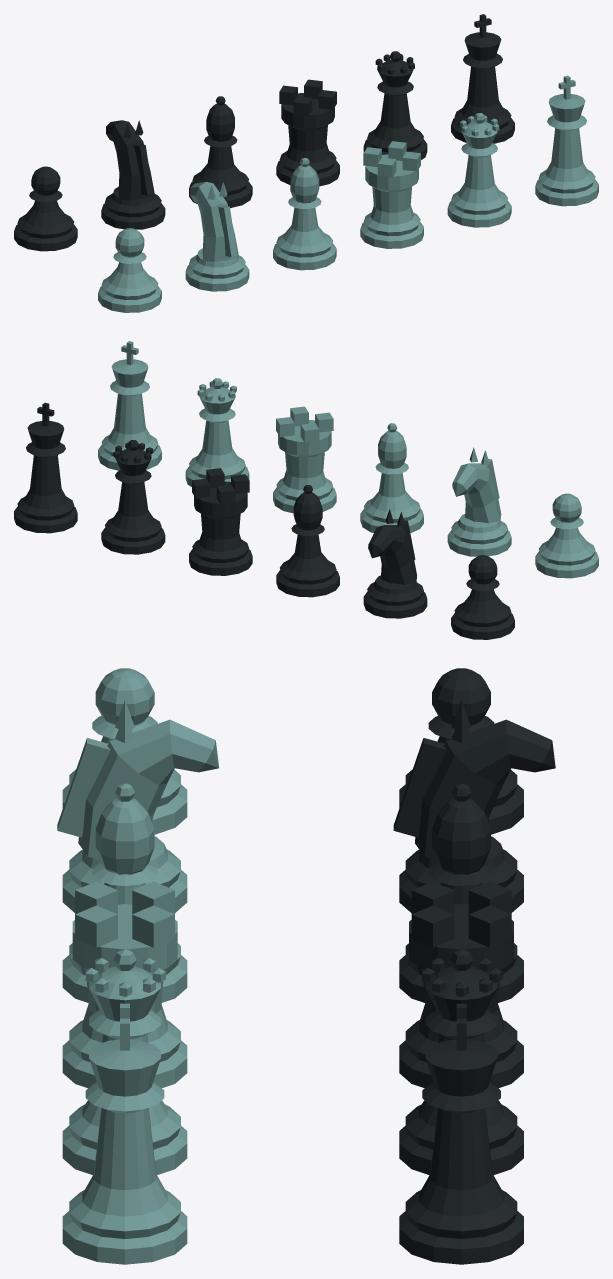
The model's file is piese_sah.glb.
3 renders of one model, top to bottom at view 1: azimuth 30°, elevation 25°; view 2: azimuth 150°, elevation 25°; view 3: azimuth 270°, elevation 25°, orthographic. The views are drawn at different scales.
Parts seen in each view (by area): view 1: Tura_A, Rege_A, Tura_N, Cal_A, Cal_N, Regina_A, Nebun_A, Rege_N, Regina_N, Pion_N, Pion_A, Nebun_N; view 2: Tura_N, Rege_N, Tura_A, Cal_N, Cal_A, Regina_N, Nebun_N, Rege_A, Regina_A, Nebun_A, Pion_A, Pion_N; view 3: Rege_N, Rege_A, Cal_A, Cal_N, Tura_N, Tura_A, Regina_N, Regina_A, Nebun_A, Nebun_N, Pion_A, Pion_N.
Part boxes in pixels (bbox=[...]): Tura_A: bbox=[360, 141, 423, 248]; Rege_A: bbox=[535, 75, 598, 206]; Tura_N: bbox=[276, 79, 339, 186]; Cal_A: bbox=[185, 181, 249, 291]; Cal_N: bbox=[101, 120, 165, 229]; Regina_A: bbox=[447, 113, 511, 227]; Nebun_A: bbox=[273, 158, 336, 270]; Rege_N: bbox=[451, 14, 514, 143]; Regina_N: bbox=[363, 51, 427, 159]; Pion_N: bbox=[14, 166, 77, 251]; Pion_A: bbox=[98, 228, 161, 312]; Nebun_N: bbox=[189, 96, 252, 208]; Tura_N: bbox=[189, 468, 252, 575]; Rege_N: bbox=[14, 402, 77, 533]; Tura_A: bbox=[273, 406, 336, 513]; Cal_N: bbox=[363, 509, 427, 618]; Cal_A: bbox=[447, 447, 511, 556]; Regina_N: bbox=[101, 440, 165, 554]; Nebun_N: bbox=[276, 485, 339, 597]; Rege_A: bbox=[98, 341, 161, 470]; Regina_A: bbox=[185, 378, 249, 486]; Nebun_A: bbox=[360, 423, 423, 533]; Pion_A: bbox=[535, 493, 598, 578]; Pion_N: bbox=[451, 555, 514, 639]; Rege_N: bbox=[399, 1003, 523, 1264]; Rege_A: bbox=[62, 1003, 187, 1264]; Cal_A: bbox=[57, 700, 219, 912]; Cal_N: bbox=[393, 700, 555, 912]; Tura_N: bbox=[399, 881, 523, 1088]; Tura_A: bbox=[62, 881, 187, 1087]; Regina_N: bbox=[399, 949, 523, 1175]; Regina_A: bbox=[62, 949, 187, 1174]; Nebun_A: bbox=[62, 783, 187, 1002]; Nebun_N: bbox=[399, 783, 523, 1002]; Pion_A: bbox=[62, 668, 187, 834]; Pion_N: bbox=[399, 668, 523, 834].
Size of the model in its own units: 0.338 by 0.076 by 0.1482.
